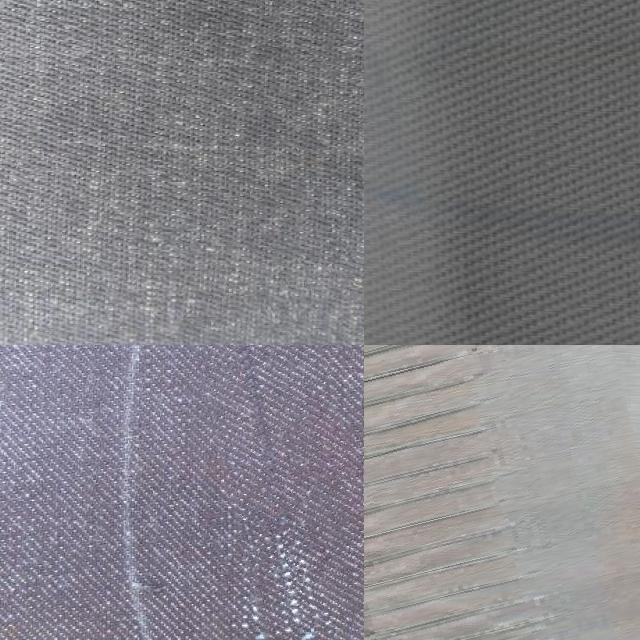Thread_out: (364, 345, 640, 640)
stains: (191, 345, 364, 640)
